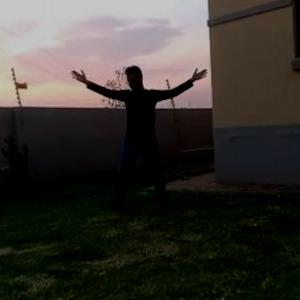takeoff: (77, 68, 210, 215)
